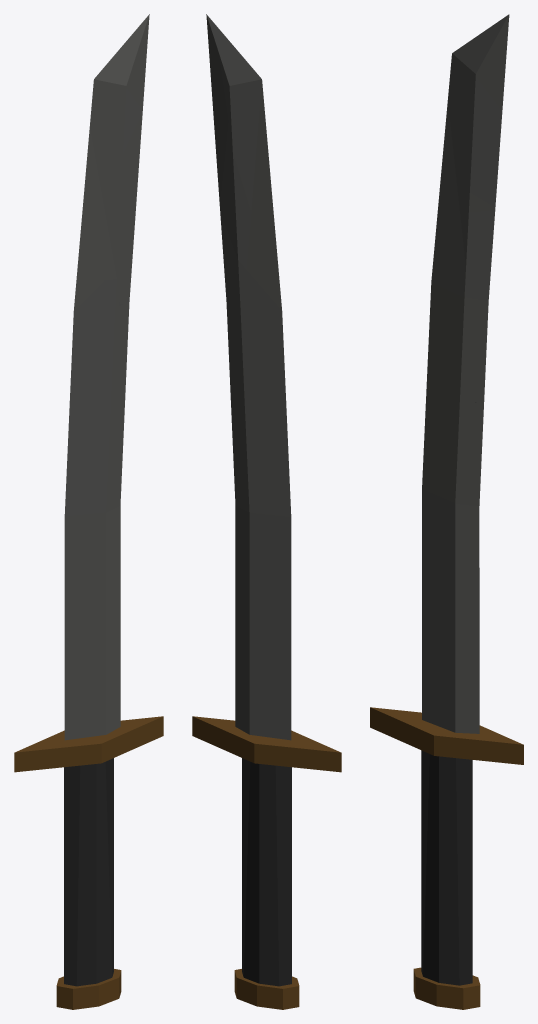
The model's file is 2 katana.fbx.
3 views of the same model, side by side, from view 1: azimuth 30°, elevation 25°; view 2: azimuth 150°, elevation 25°; view 3: azimuth 330°, elevation 25° (orthographic). The views are drawn at different scales.
Visible parts, largest first — view 1: Knife, rukoyat; view 2: Knife, rukoyat; view 3: Knife, rukoyat.
Part boxes in pixels (<box>): Knife: <box>64,14,149,740</box>; rukoyat: <box>14,716,163,1009</box>; Knife: <box>206,14,291,740</box>; rukoyat: <box>192,716,341,1009</box>; Knife: <box>422,14,509,733</box>; rukoyat: <box>370,707,523,1009</box>.
Size of the model in its own units: 395 by 2452 by 116.
